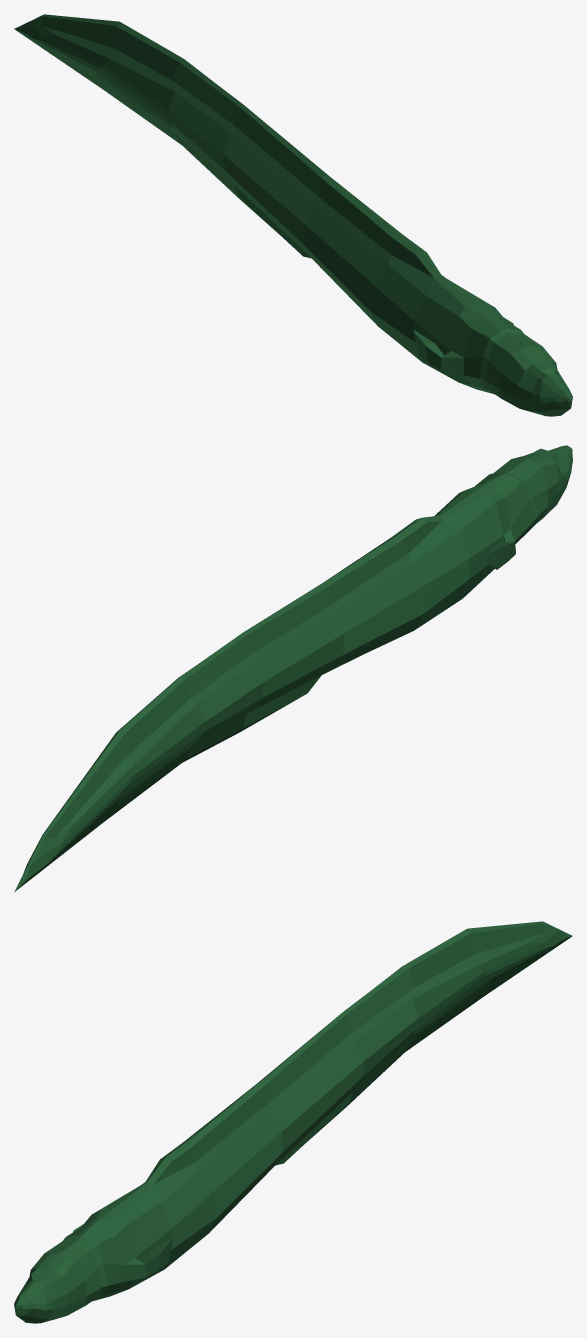
The picture shows the model from 3 angles, top to bottom: view 1: azimuth 30°, elevation 25°; view 2: azimuth 150°, elevation 25°; view 3: azimuth 330°, elevation 25°; orthographic projection.
Visible parts, largest first — view 1: Eel.001; view 2: Eel.001; view 3: Eel.001.
Boxes of the visible parts, <box> form: Eel.001: <box>14,14,572,416</box>; Eel.001: <box>14,445,572,892</box>; Eel.001: <box>14,921,572,1323</box>.
Bounding box in the file's own units: 13.5 × 16.92 × 147.
